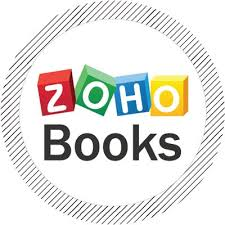zoho: (35, 65, 192, 118)
